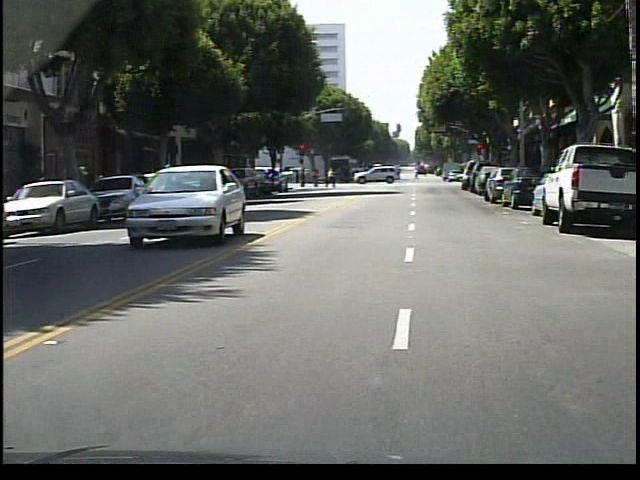person: (324, 163, 344, 192)
